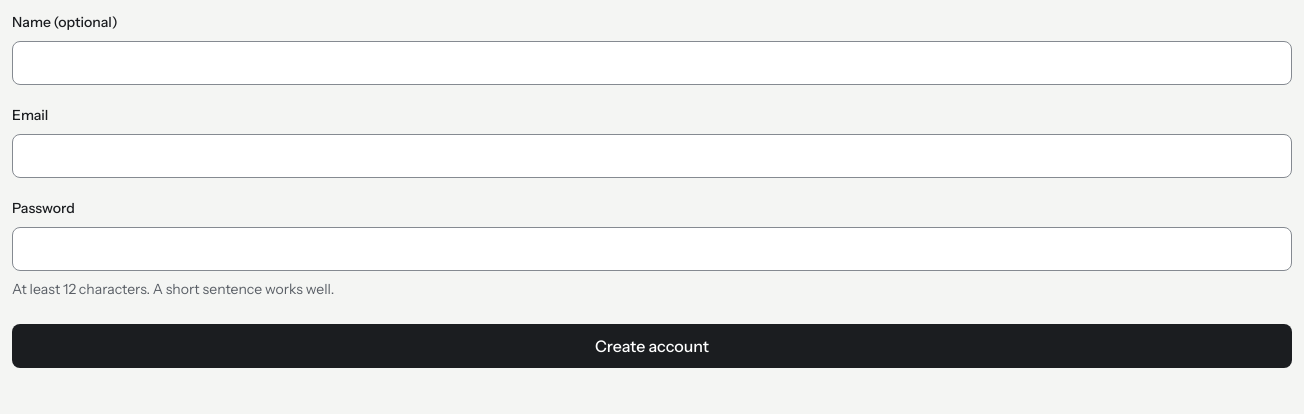
Test: checks the password length before sending
Type "sam@example.com" into the field labelled "Email". click: (652, 156)
box: [12,134,1292,178]
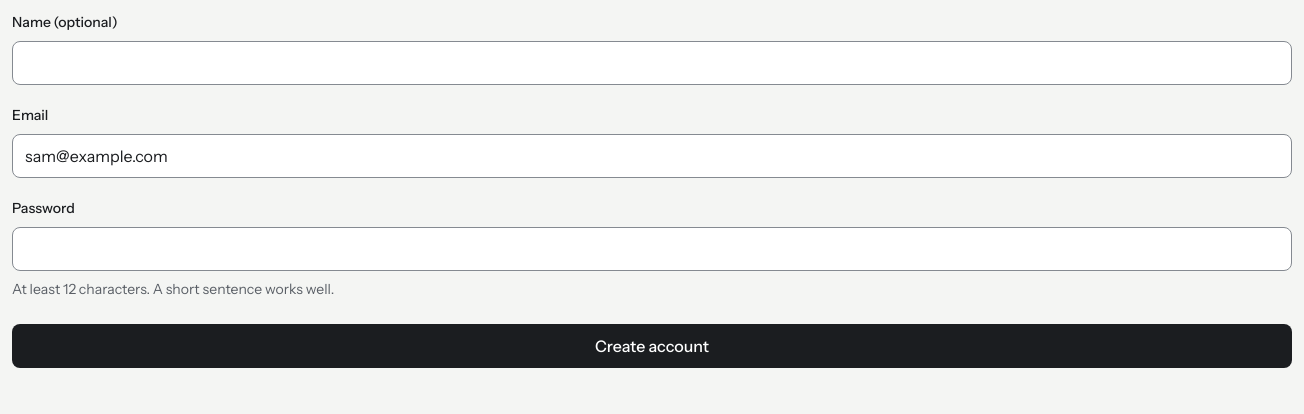
Type "short" into the password field labelled "Password". click: (652, 249)
box: [12,227,1292,271]
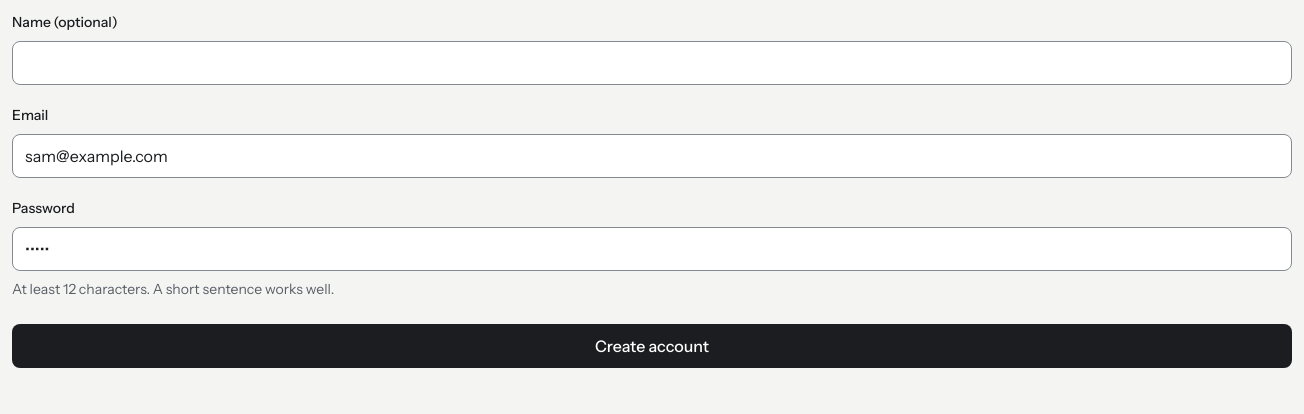
Click the button "Create account". click: (652, 346)
box: [12,324,1292,368]
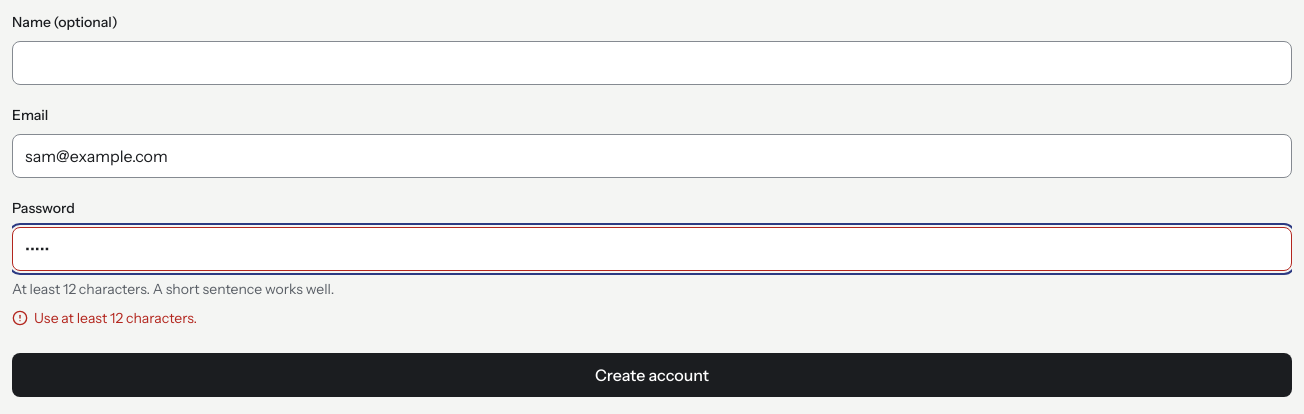
Result: the text "Use at least 12 characters." is shown at [12,309,197,327]
